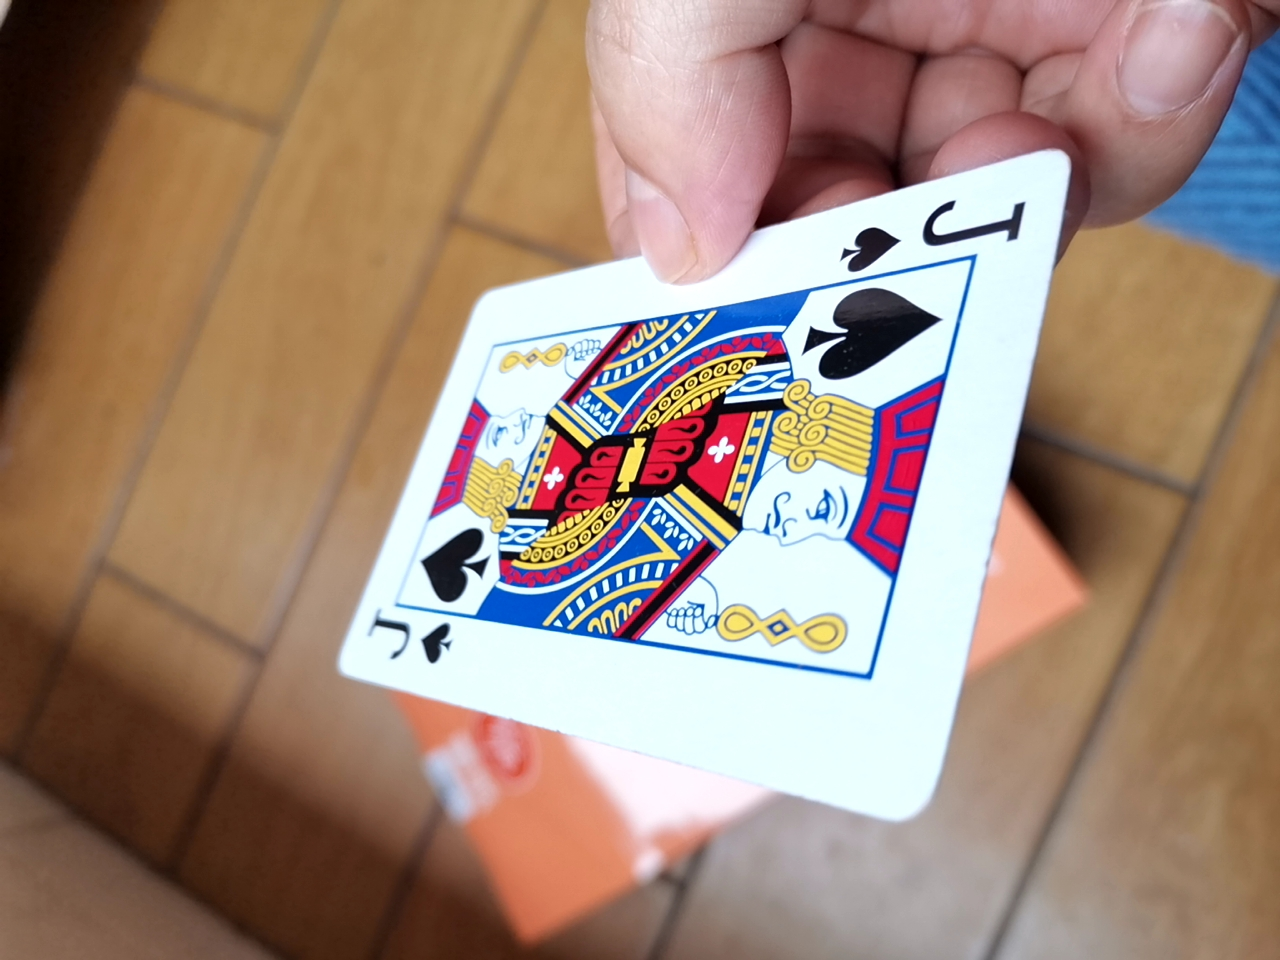ht j: (321, 154, 1072, 833)
